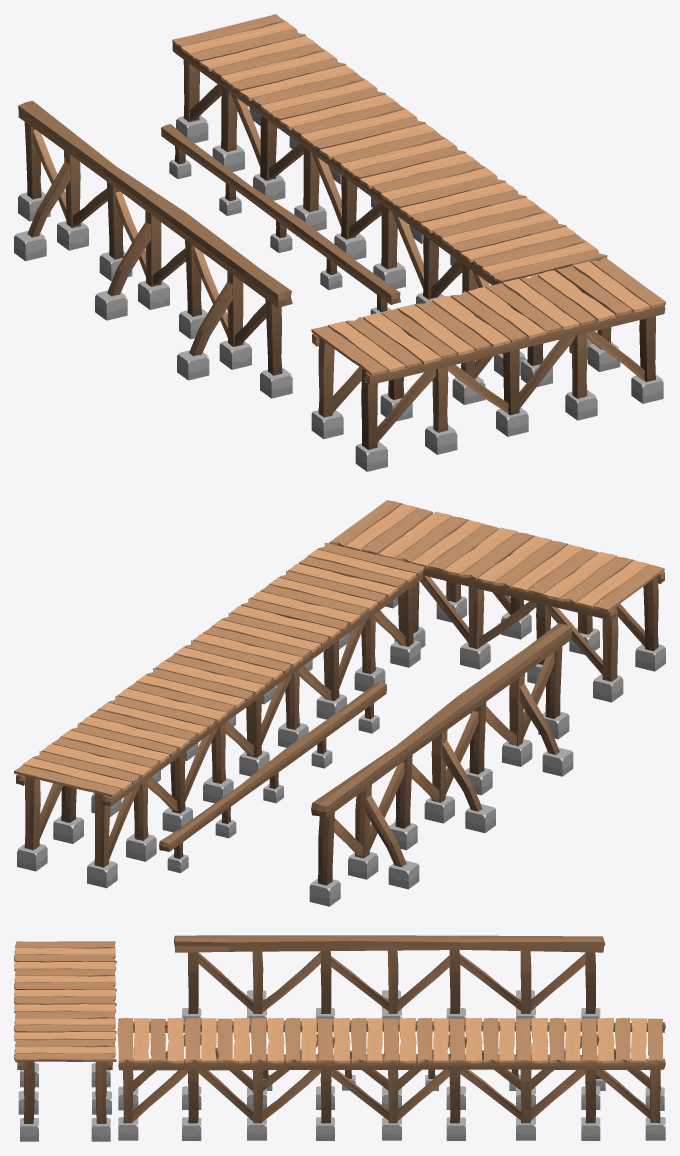
Rendered from wooden-platform-2.glb.
The picture shows the model from 3 angles, top to bottom: view 1: azimuth 30°, elevation 25°; view 2: azimuth 150°, elevation 25°; view 3: azimuth 270°, elevation 25°; orthographic projection. The views are drawn at different scales.
Visible parts, largest first — view 1: wooden platform 2; view 2: wooden platform 2; view 3: wooden platform 2.
Part boxes in pixels (x1,y1,x2,y2): wooden platform 2: (14, 14, 665, 471); wooden platform 2: (14, 500, 665, 906); wooden platform 2: (14, 935, 665, 1141).
Size of the model in its own units: 14.37 by 4.34 by 28.82.
1 material, 1 textured.
